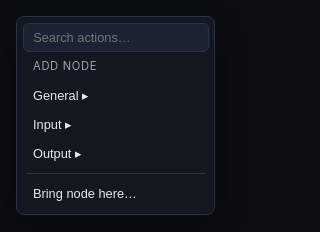
Scenario: RoutingGraphContextMenu pane search › filters actions across categories and stub effects by typed text
Type "reverb" into the field with class "routing-graph-context-menu-search".
click(116, 38); type("reverb")  # box [23,23,209,52]
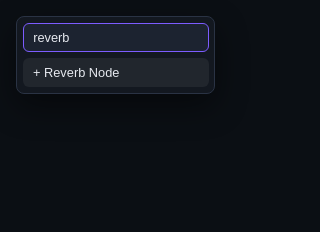
Expected: the text "Add node" is gone
Expected: the button "+ Reverb Node" is shown, [23,58,209,87]
